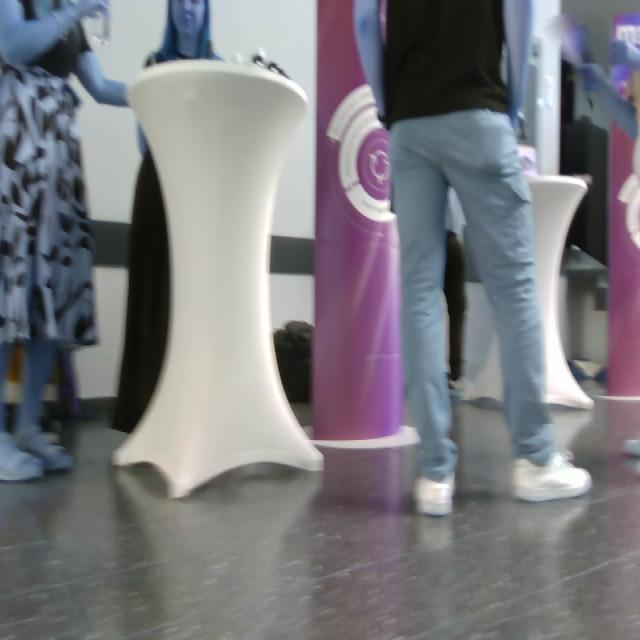light bulb: (111, 57, 325, 500)
person: (355, 1, 594, 517), (1, 1, 132, 482)
tiled floor: (2, 374, 638, 637)
